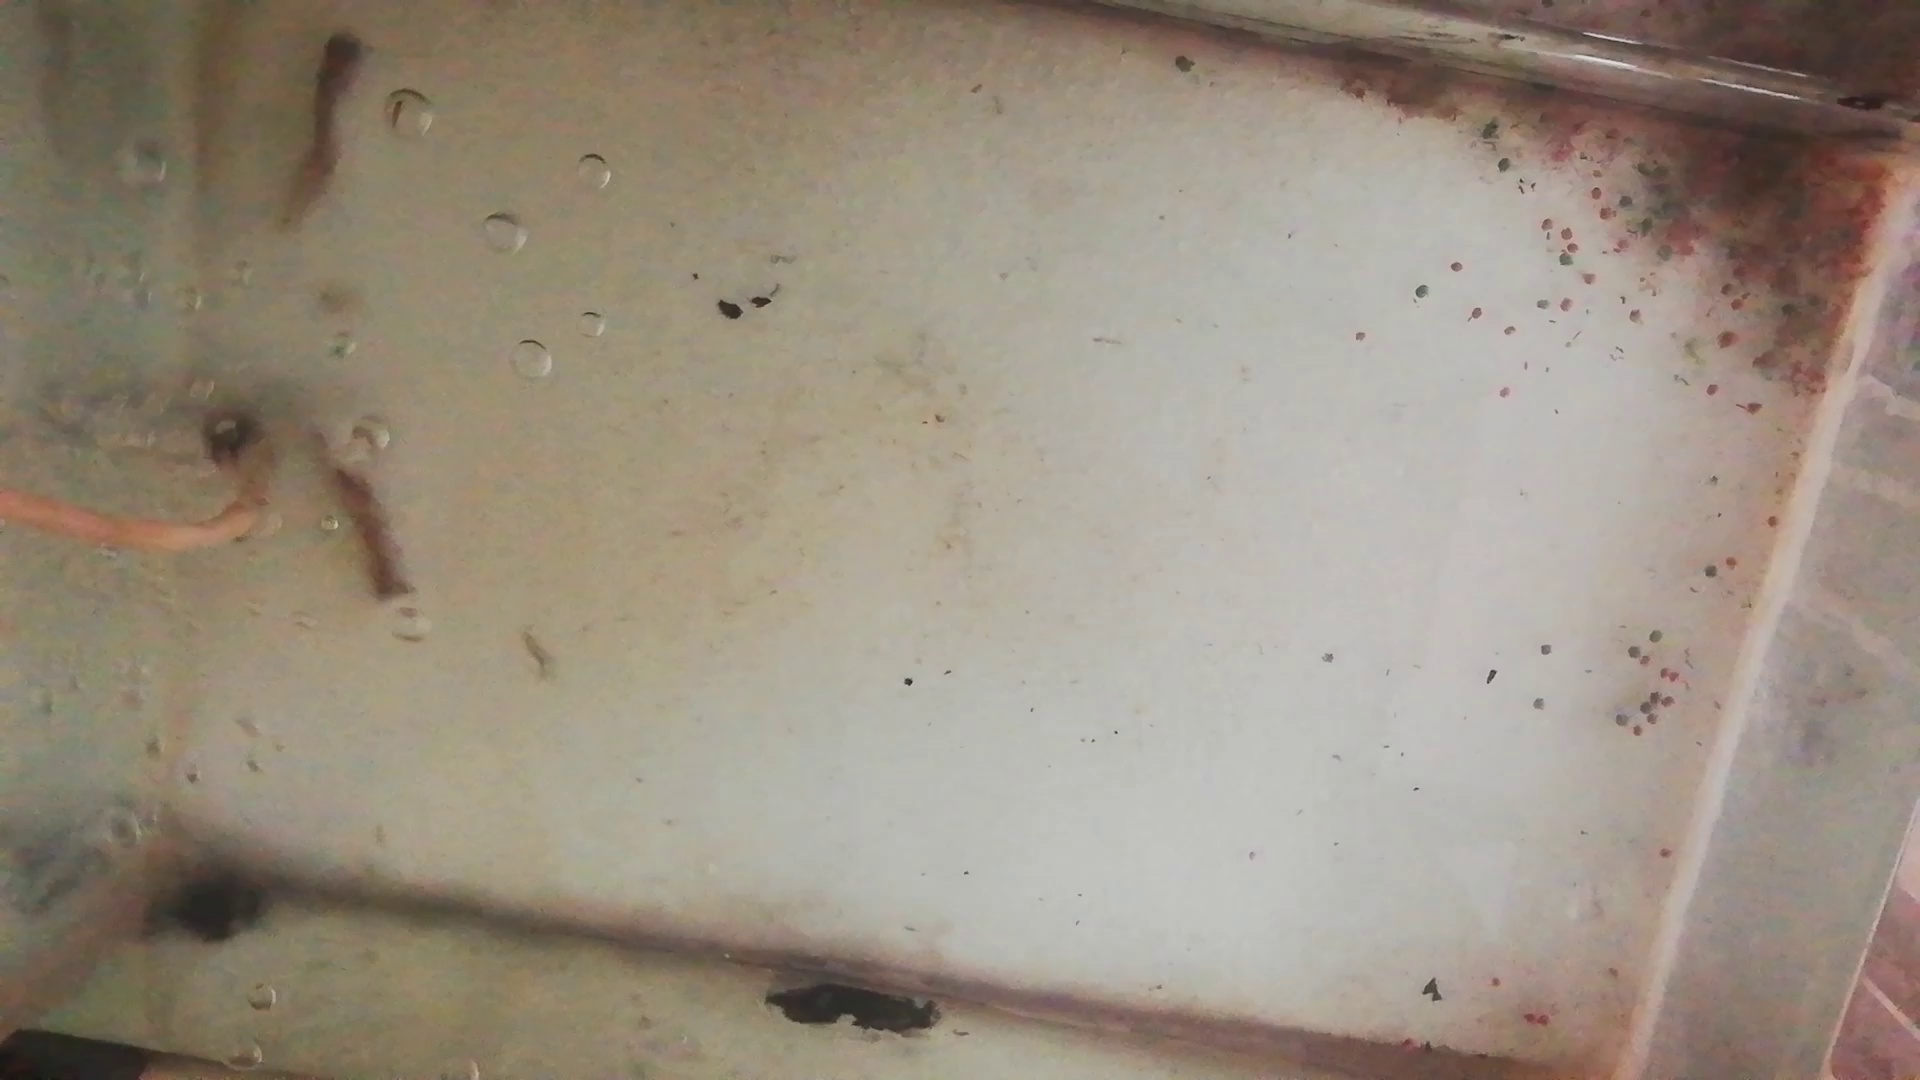fish: (309, 433, 415, 626), (280, 32, 371, 232)
